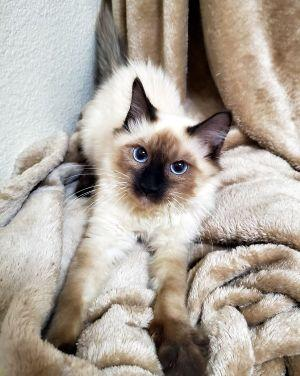siamese: (93, 72, 244, 234)
